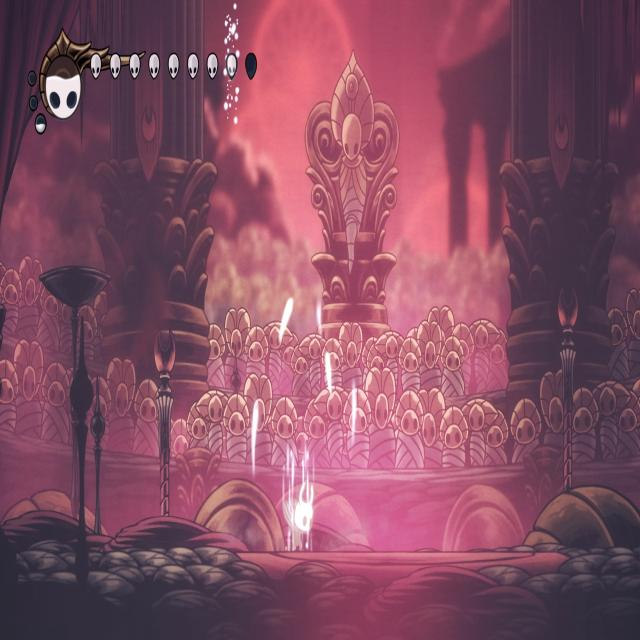Player: (286, 474, 318, 558)
